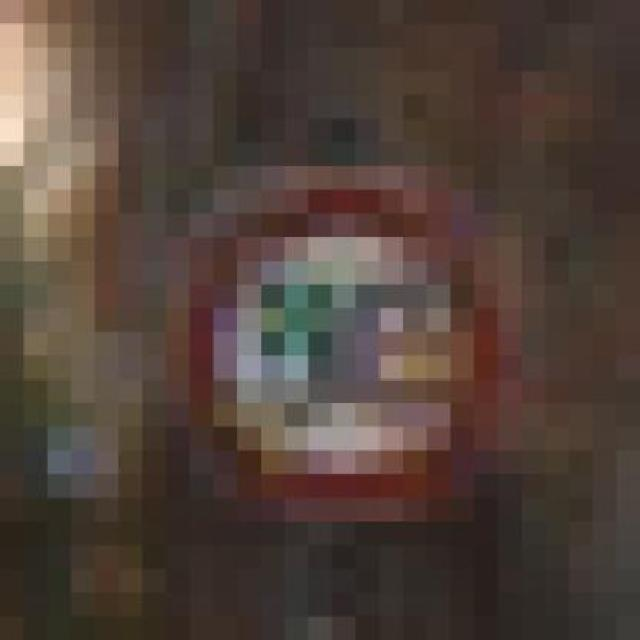50 mph speed limit: (142, 119, 546, 522)
